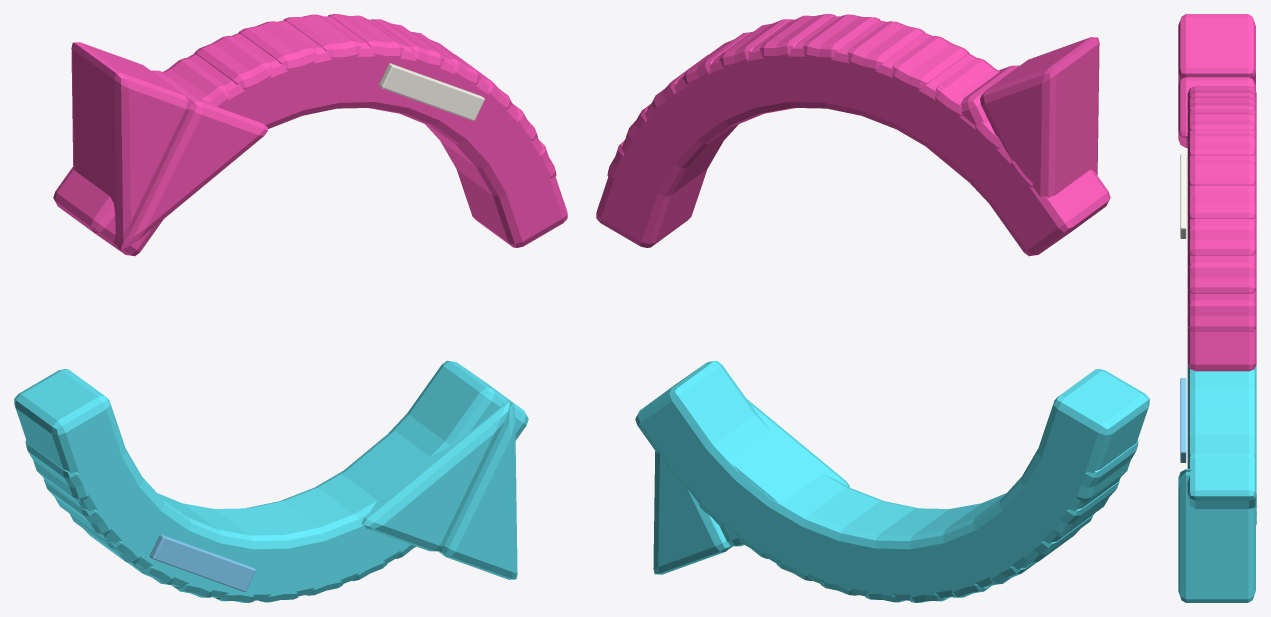
The model's file is Rebirth.glb.
3 renders of one model, left to right at view 1: azimuth 30°, elevation 25°; view 2: azimuth 150°, elevation 25°; view 3: azimuth 270°, elevation 25°, orthographic. The views are drawn at different scales.
Visible parts, largest first — view 1: Arrow head prism.001, Arrow head prism.002, Flowing arc.013, Arrow head prism, Arrow head prism.003, Flowing arc, Flowing arc.008, Flowing arc.025, Flowing arc.006, Flowing arc.020, Flowing arc.021, Flowing arc.007 (+18 smaller); view 2: Arrow head prism.001, Flowing arc.013, Flowing arc.025, Flowing arc.008, Flowing arc, Flowing arc.012, Arrow head prism.003, Arrow head prism.002, Flowing arc.021, Flowing arc.009, Flowing arc.007, Flowing arc.005 (+18 smaller); view 3: Arrow head prism.003, Arrow head prism.001, Flowing arc, Flowing arc.025, Flowing arc.001, Flowing arc.002, Flowing arc.003, Flowing arc.004, Flowing arc.005, Flowing arc.006, Flowing arc.017, Flowing arc.018 (+9 smaller).
Part boxes in pixels (x1=…): Arrow head prism.001: x1=71, y1=42, x2=190, y2=249; Arrow head prism.002: x1=342, y1=399, x2=509, y2=551; Flowing arc.013: x1=14, y1=369, x2=127, y2=502; Arrow head prism: x1=119, y1=70, x2=267, y2=249; Arrow head prism.003: x1=438, y1=399, x2=517, y2=579; Flowing arc: x1=456, y1=141, x2=567, y2=247; Flowing arc.008: x1=194, y1=21, x2=318, y2=128; Flowing arc.025: x1=407, y1=360, x2=528, y2=445; Flowing arc.006: x1=283, y1=15, x2=404, y2=108; Flowing arc.020: x1=246, y1=501, x2=343, y2=602; Flowing arc.021: x1=280, y1=487, x2=387, y2=595; Flowing arc.007: x1=238, y1=14, x2=361, y2=115; Arrow head prism.001: x1=980, y1=37, x2=1099, y2=197; Flowing arc.013: x1=1036, y1=369, x2=1149, y2=502; Flowing arc.025: x1=635, y1=360, x2=756, y2=489; Flowing arc.008: x1=844, y1=21, x2=969, y2=130; Flowing arc: x1=596, y1=141, x2=707, y2=247; Flowing arc.012: x1=981, y1=160, x2=1110, y2=256; Arrow head prism.003: x1=653, y1=451, x2=732, y2=574; Arrow head prism.002: x1=720, y1=398, x2=849, y2=546; Flowing arc.021: x1=776, y1=487, x2=883, y2=595; Flowing arc.009: x1=882, y1=35, x2=999, y2=153; Flowing arc.007: x1=802, y1=14, x2=925, y2=115; Flowing arc.005: x1=719, y1=14, x2=835, y2=113; Arrow head prism.003: x1=1178, y1=472, x2=1255, y2=602; Arrow head prism.001: x1=1178, y1=14, x2=1255, y2=84; Flowing arc: x1=1187, y1=300, x2=1256, y2=371; Flowing arc.025: x1=1187, y1=453, x2=1256, y2=517; Flowing arc.001: x1=1187, y1=262, x2=1256, y2=331; Flowing arc.002: x1=1187, y1=225, x2=1256, y2=293; Flowing arc.003: x1=1187, y1=191, x2=1256, y2=255; Flowing arc.004: x1=1187, y1=160, x2=1256, y2=219; Flowing arc.005: x1=1187, y1=133, x2=1256, y2=185; Flowing arc.006: x1=1187, y1=112, x2=1256, y2=156; Flowing arc.017: x1=1187, y1=388, x2=1256, y2=417; Flowing arc.018: x1=1187, y1=413, x2=1256, y2=439.
Bounding box in the file's own units: 2.54 × 2.84 × 0.455.
